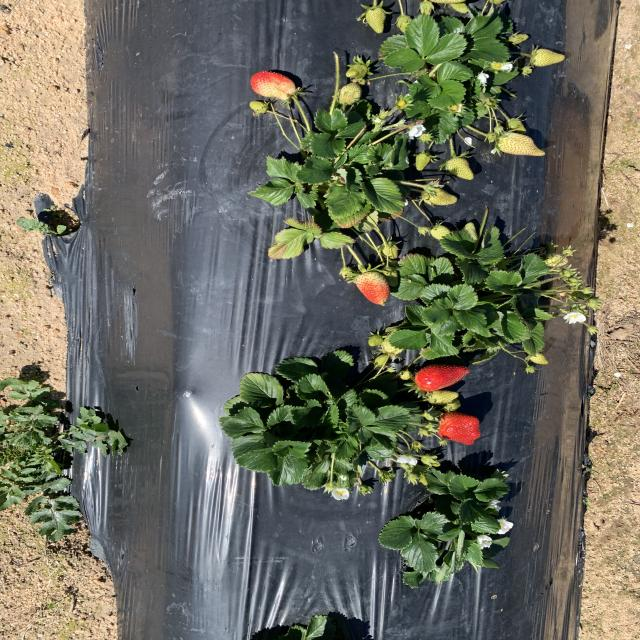unripe: (415, 363, 471, 391), (435, 410, 481, 444), (250, 70, 298, 99), (355, 271, 394, 306)
